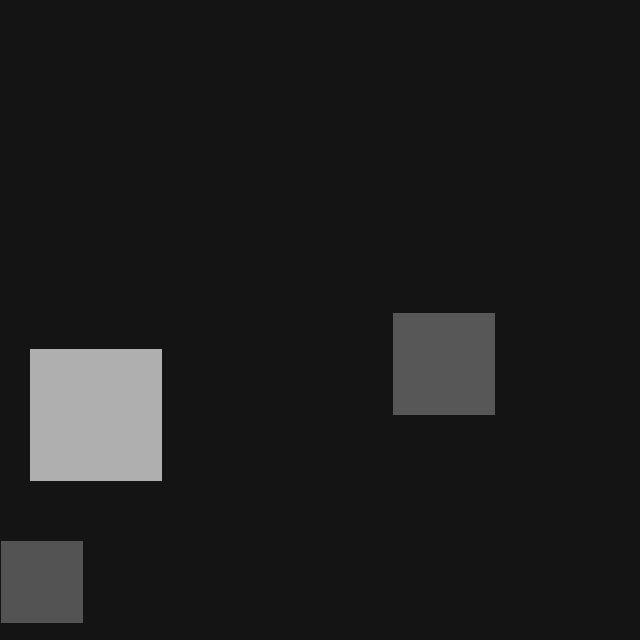square: (30, 349, 161, 480), (393, 313, 494, 414), (1, 541, 82, 622)
